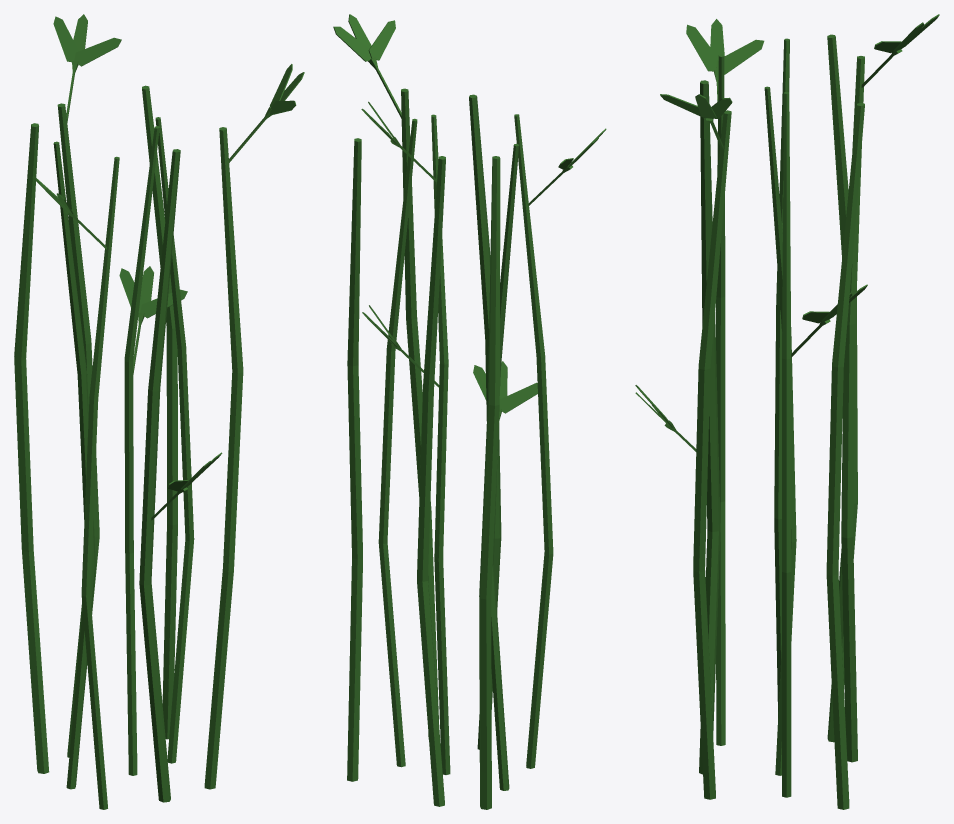
Rendered from bunker47-prop-palm10.glb.
3 views of the same model, side by side, from view 1: azimuth 30°, elevation 25°; view 2: azimuth 150°, elevation 25°; view 3: azimuth 270°, elevation 25° (orthographic). The views are drawn at different scales.
Parts seen in each view (by area): view 1: Tree_Tropic_010; view 2: Tree_Tropic_010; view 3: Tree_Tropic_010.
Part boxes in pixels (x1=…): Tree_Tropic_010: x1=14, y1=14, x2=304, y2=809; Tree_Tropic_010: x1=333, y1=14, x2=606, y2=809; Tree_Tropic_010: x1=635, y1=14, x2=939, y2=809.
Size of the model in its own units: 273 by 713 by 259.
1 material, 1 textured.
